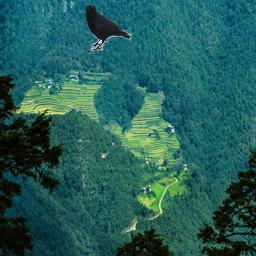Crow: (85, 5, 132, 51)
